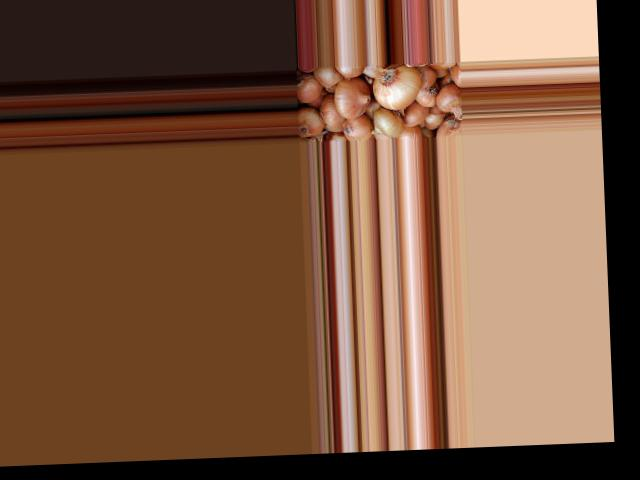onion: (296, 107, 323, 135)
